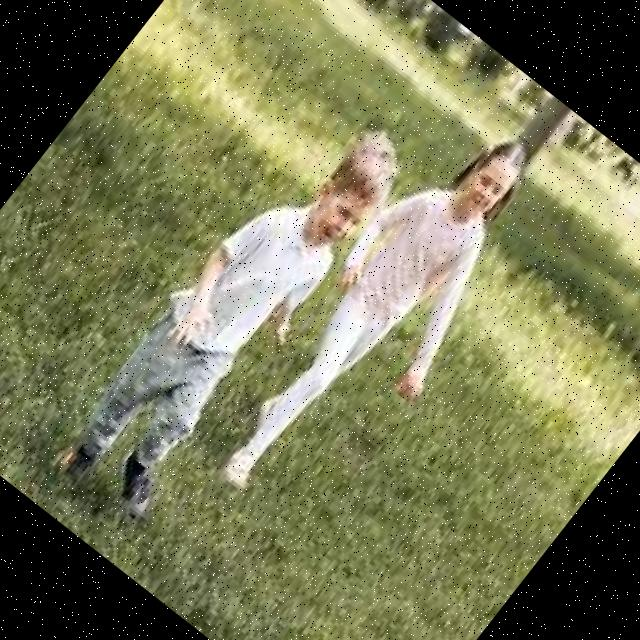Person: (194, 102, 579, 539), (51, 90, 420, 516)
